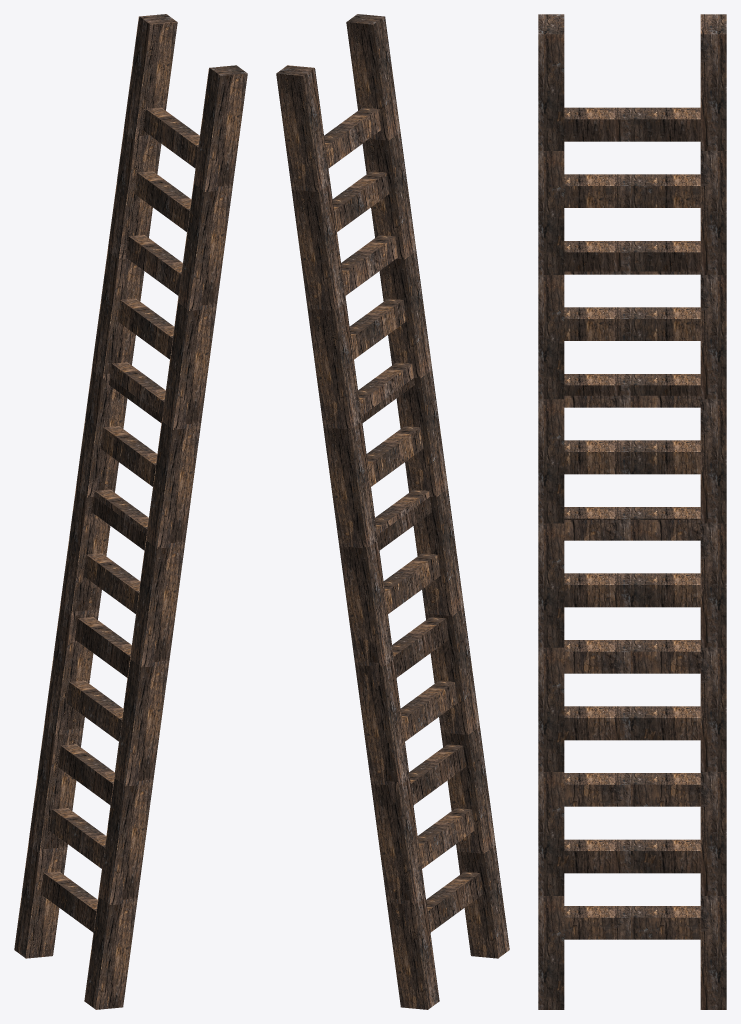
The model's file is LadderFirstToSecond.FBX.
3 renders of one model, left to right at view 1: azimuth 30°, elevation 25°; view 2: azimuth 150°, elevation 25°; view 3: azimuth 270°, elevation 25°, orthographic. The views are drawn at different scales.
Parts seen in each view (by area): view 1: LadderFirstToSecond; view 2: LadderFirstToSecond; view 3: LadderFirstToSecond.
Part boxes in pixels (box(x1,y1,x2,y2)): LadderFirstToSecond: box(14, 14, 247, 1009); LadderFirstToSecond: box(276, 14, 509, 1009); LadderFirstToSecond: box(538, 14, 726, 1009).
Size of the model in its own units: 17.02 by 96.91 by 15.74.
Materials: 1 (1 with a texture image).
